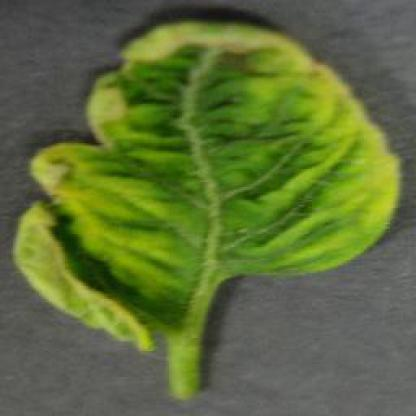bad leaf: (13, 202, 151, 337), (127, 20, 293, 64), (30, 145, 113, 202), (359, 119, 397, 223), (86, 80, 139, 132), (302, 56, 340, 108)
